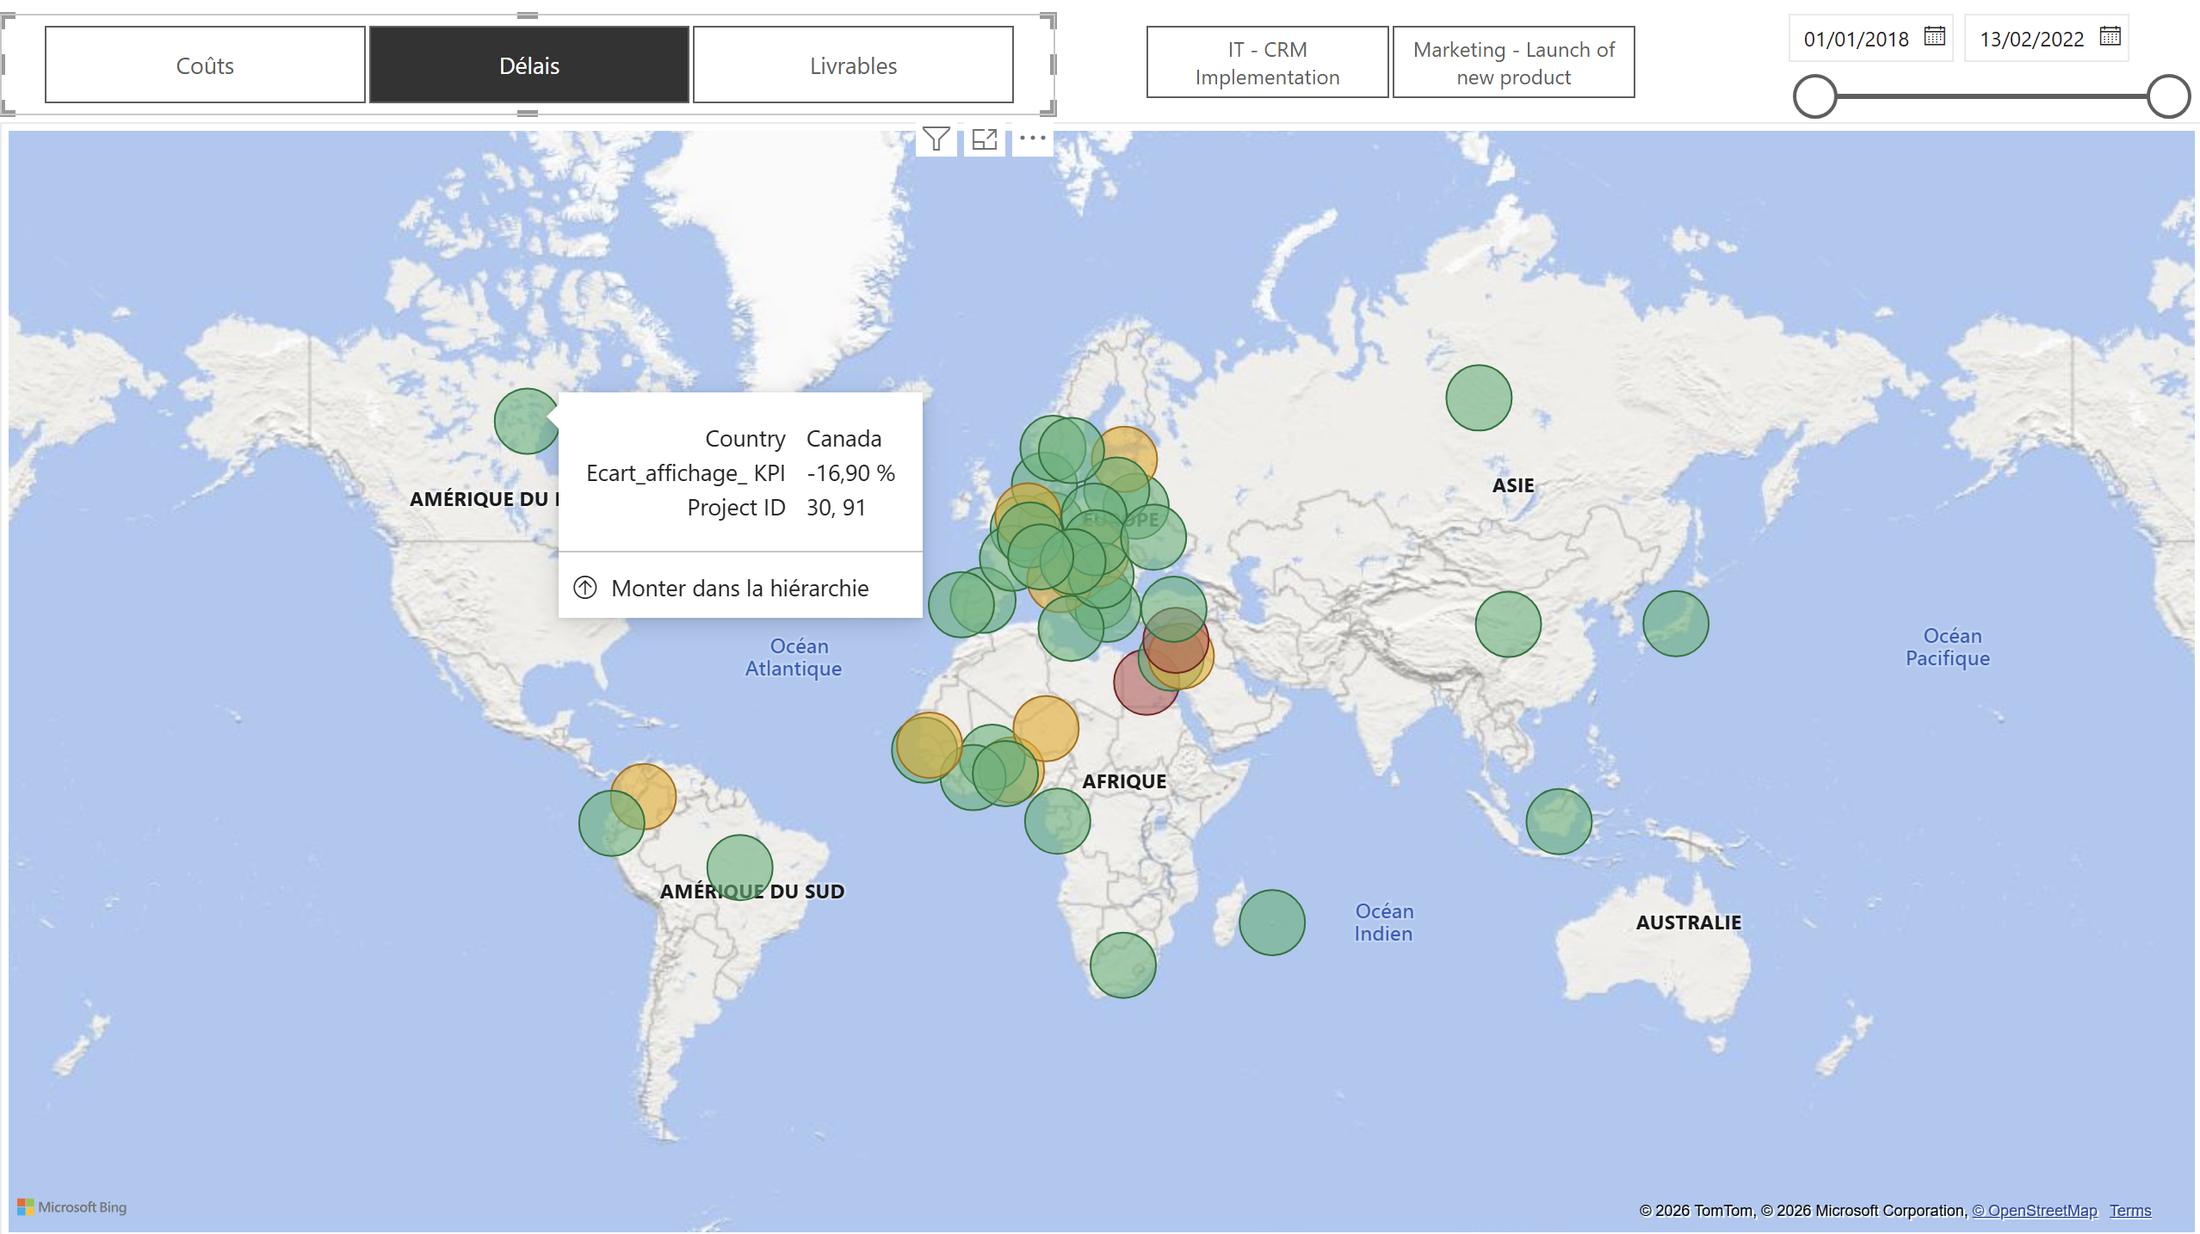

The page's visual inventory and layout, read from the dashboard file:
{"tool":"powerbi","page":{"name":"Carte","canvas":[1280,720],"ordinal":4},"visuals":[{"type":"slicer","fields":{"Values":["cout_livra_delai_select.KPI"]},"box":[0,10,511.1,58.9],"z":0},{"type":"map","fields":{"Category":["Country_Profiles.Region","Country_Profiles.Country"]},"box":[0,73.3,1280,650],"z":1000},{"type":"slicer","fields":{"Values":["Project type.Project Type"]},"box":[511.1,0,300,73.3],"z":3001},{"type":"slicer","fields":{"Values":["Projects_plans.Start Date"]},"box":[811.1,0,235.6,73.3],"z":3002}]}

Visuals, with their boxes in screenshot pixels (x1, y1, x2, y2), scaled from the page's 1280x720 canvas onto the 2200x1234 screenshot:
slicer - cout_livra_delai_select.KPI: select_region(0, 17, 878, 118)
map - Country_Profiles.Region x Country_Profiles.Country: select_region(0, 126, 2199, 1233)
slicer - Project type.Project Type: select_region(878, 0, 1394, 126)
slicer - Projects_plans.Start Date: select_region(1394, 0, 1799, 126)
